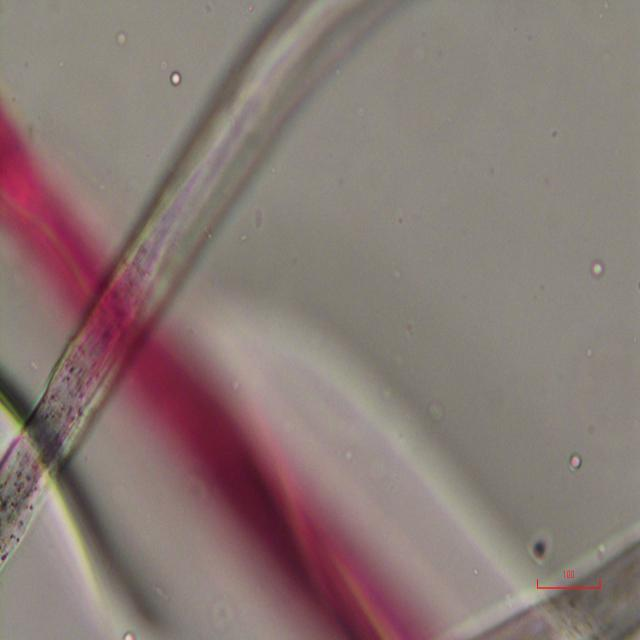Background material: (311, 310, 485, 583), (45, 488, 158, 628), (524, 525, 558, 569), (204, 594, 242, 630), (0, 373, 22, 429), (582, 252, 606, 279), (112, 29, 136, 50), (164, 70, 182, 92), (570, 449, 584, 474), (434, 397, 446, 421)
Microfibre: (0, 109, 431, 636), (0, 2, 390, 555), (452, 532, 640, 639)
